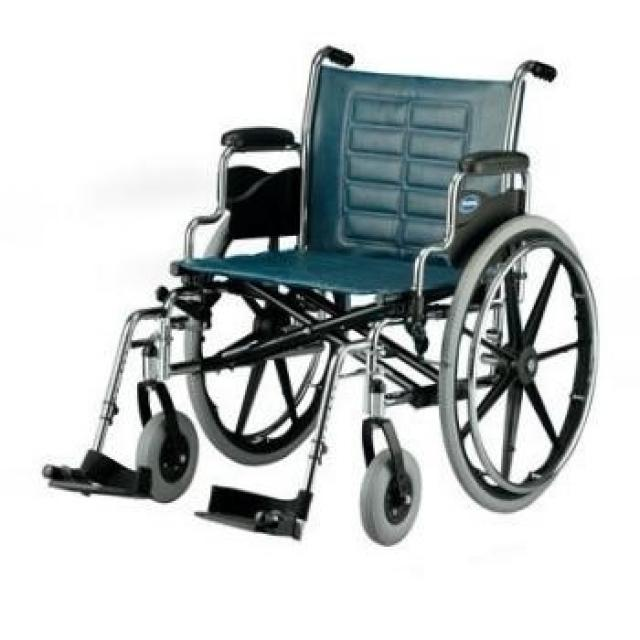wheelchair: (39, 38, 640, 560)
